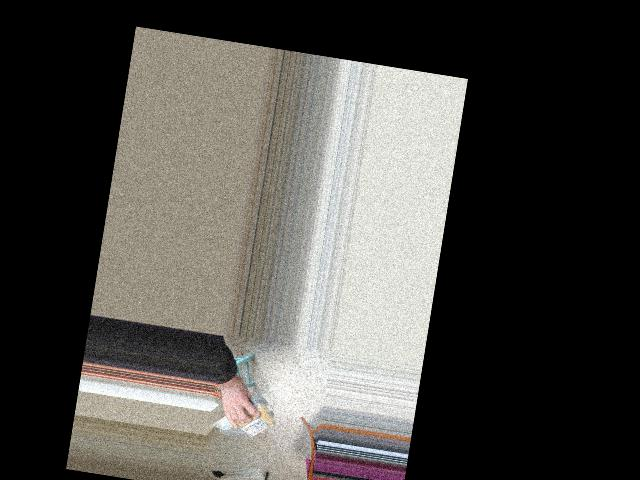cheese: (211, 401, 284, 442)
